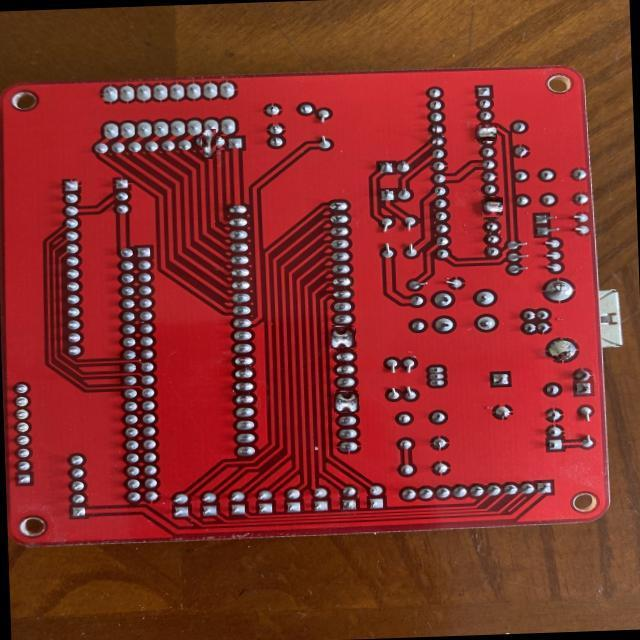damged: (198, 132, 221, 155), (335, 390, 358, 413), (332, 326, 355, 348), (482, 196, 502, 218), (477, 123, 496, 143)
